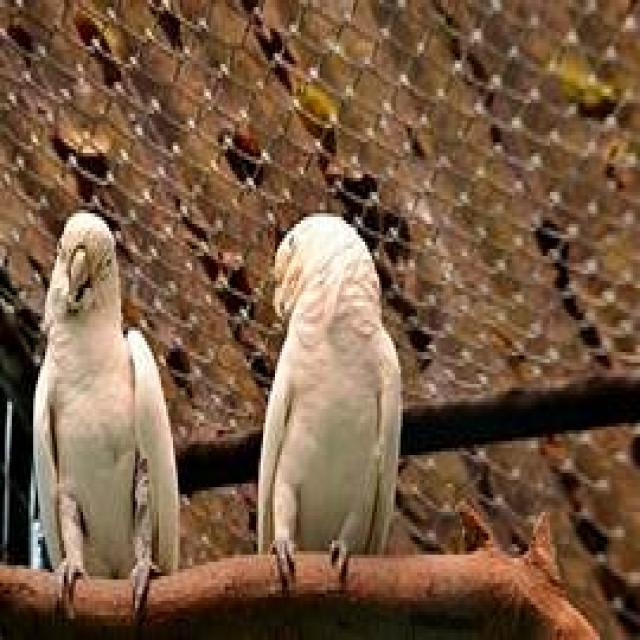Kakatua Putih: (228, 187, 415, 640), (9, 191, 198, 634)
